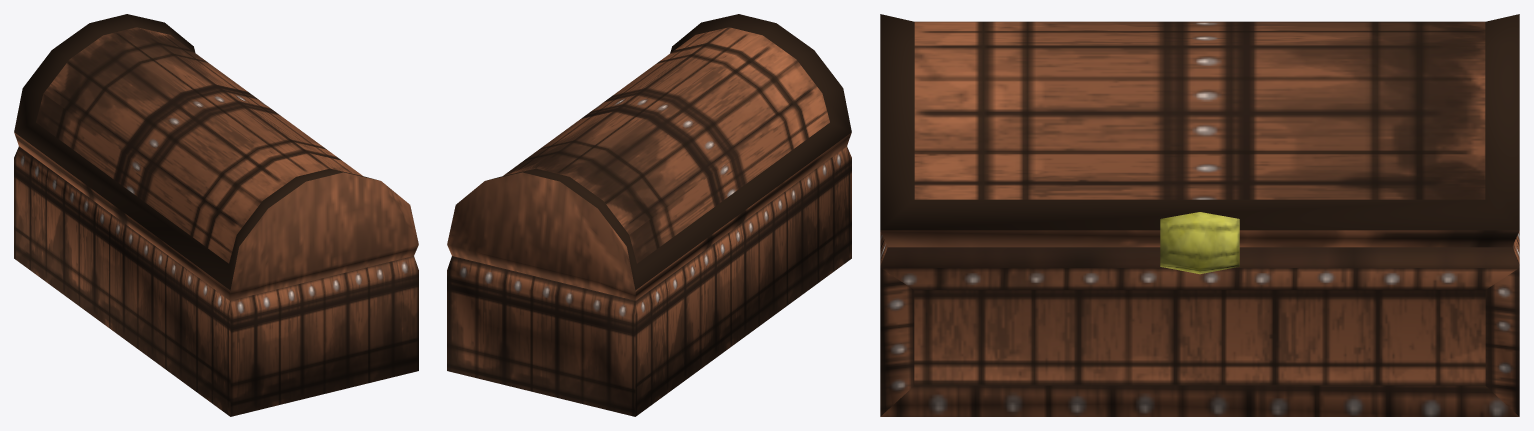
Rendered from treasure_chest.glb.
3 renders of one model, left to right at view 1: azimuth 30°, elevation 25°; view 2: azimuth 150°, elevation 25°; view 3: azimuth 270°, elevation 25°, orthographic. The views are drawn at different scales.
Visible parts, largest first — view 1: top, bottom; view 2: top, bottom; view 3: top, bottom, clasp.
Part boxes in pixels (x1,y1,x2,y2): top: (14,14,418,300); bottom: (14,146,418,416); top: (447,14,851,300); bottom: (447,146,851,416); top: (880,14,1519,247); bottom: (880,231,1519,416); clasp: (1160,212,1239,274).
Bounding box in the file's own units: 2.16 × 2.2 × 3.98.
2 materials, 2 textured.
